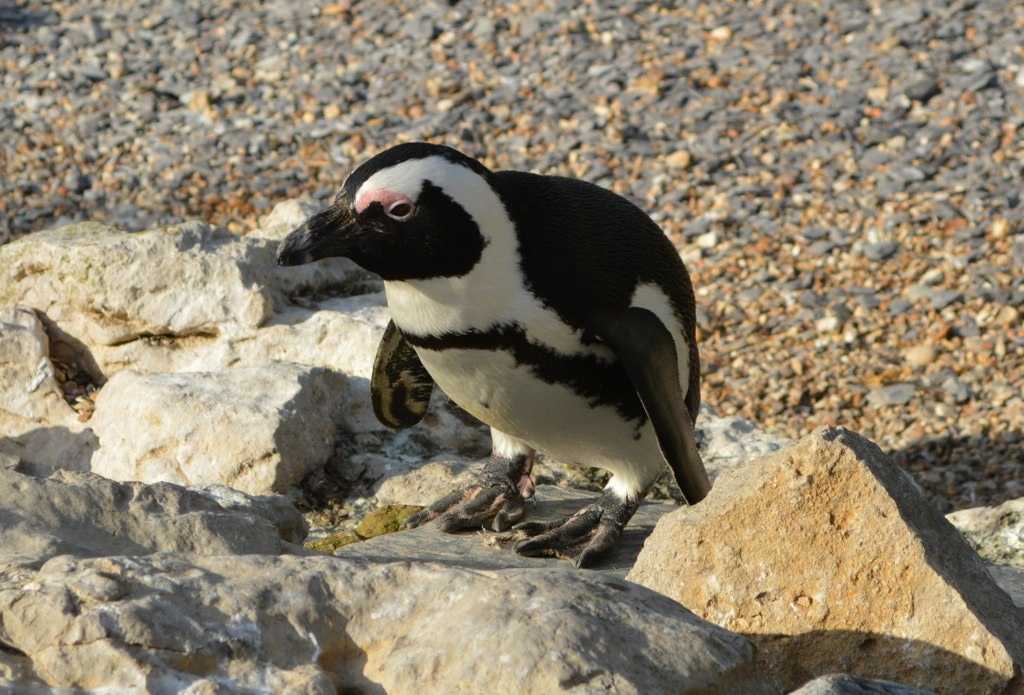penguin: (272, 137, 722, 575)
